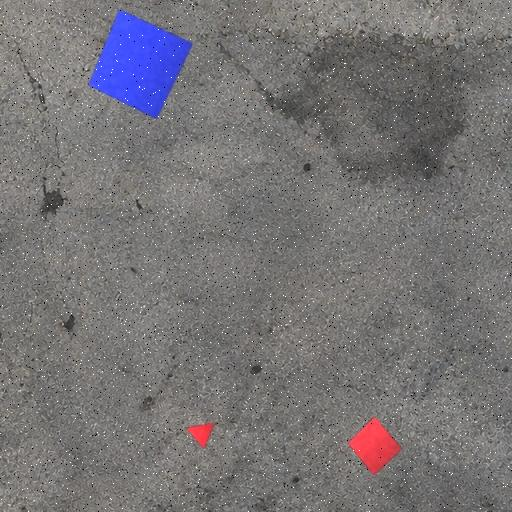BLUE_SQUARE: (87, 9, 194, 120)
RED_SQUARE: (347, 416, 403, 477)
